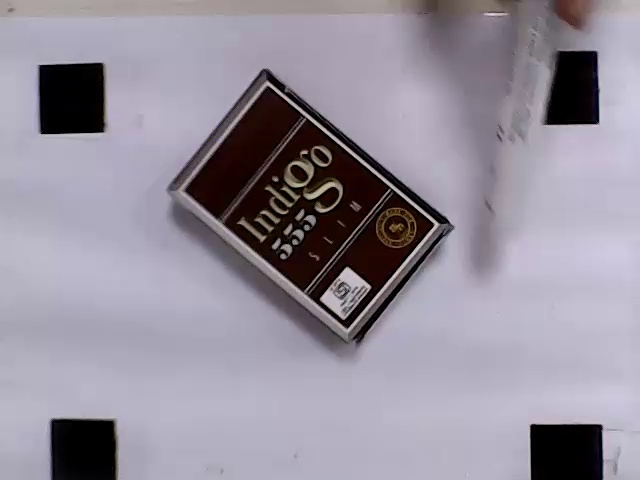BEX: (182, 83, 438, 330)
